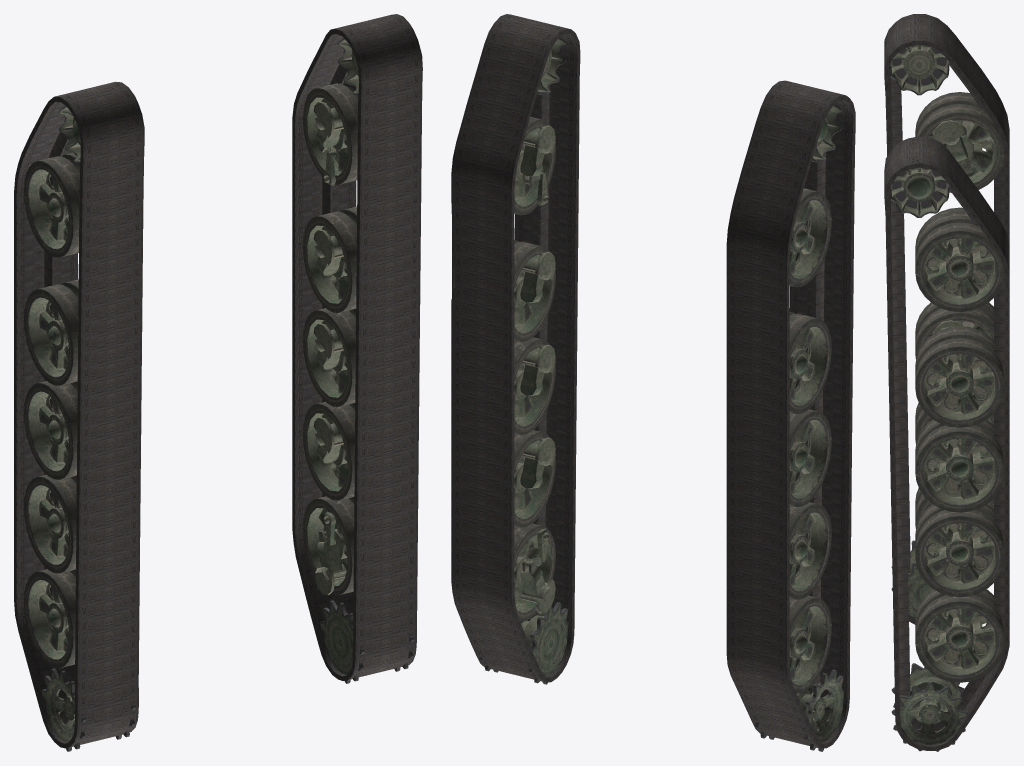
Rendered from Chassis.glb.
3 views of the same model, side by side, from view 1: azimuth 30°, elevation 25°; view 2: azimuth 150°, elevation 25°; view 3: azimuth 270°, elevation 25° (orthographic). The views are drawn at different scales.
Visible parts, largest first — view 1: set_3_group_0, set_2_group_0, set_1_group_0, set_0_group_0; view 2: set_2_group_0, set_3_group_0, set_0_group_0, set_1_group_0; view 3: set_0_group_0, set_3_group_0, set_1_group_0, set_2_group_0.
Boxes of the visible parts, x1,y1,x2,y2 form: set_3_group_0: [292, 14, 422, 680]; set_2_group_0: [14, 81, 144, 748]; set_1_group_0: [24, 105, 135, 751]; set_0_group_0: [302, 38, 414, 683]; set_2_group_0: [726, 80, 855, 748]; set_3_group_0: [451, 14, 580, 682]; set_0_group_0: [479, 37, 567, 684]; set_1_group_0: [755, 104, 843, 751]; set_0_group_0: [889, 167, 1004, 751]; set_3_group_0: [884, 136, 1009, 750]; set_1_group_0: [889, 45, 1004, 618]; set_2_group_0: [884, 14, 1009, 624].
Size of the model in its own units: 3.2 by 5.89 by 1.13.
4 materials, 4 textured.
